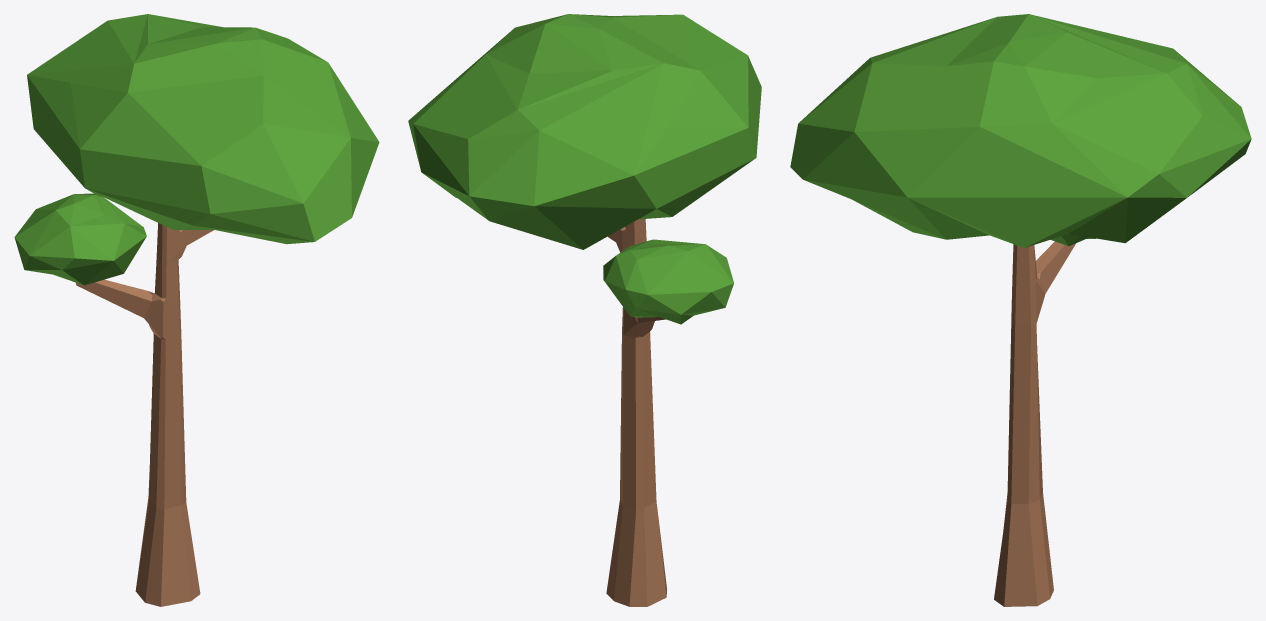
The model's file is Tree4.2.fbx.
3 renders of one model, left to right at view 1: azimuth 30°, elevation 25°; view 2: azimuth 150°, elevation 25°; view 3: azimuth 270°, elevation 25°, orthographic. The views are drawn at different scales.
Parts seen in each view (by area): view 1: Tree4.006; view 2: Tree4.006; view 3: Tree4.006.
Boxes of the visible parts, x1,y1,x2,y2 form: Tree4.006: (14,14,379,606); Tree4.006: (408,14,761,606); Tree4.006: (790,14,1251,606).
Size of the model in its own units: 694 by 1231 by 895.
